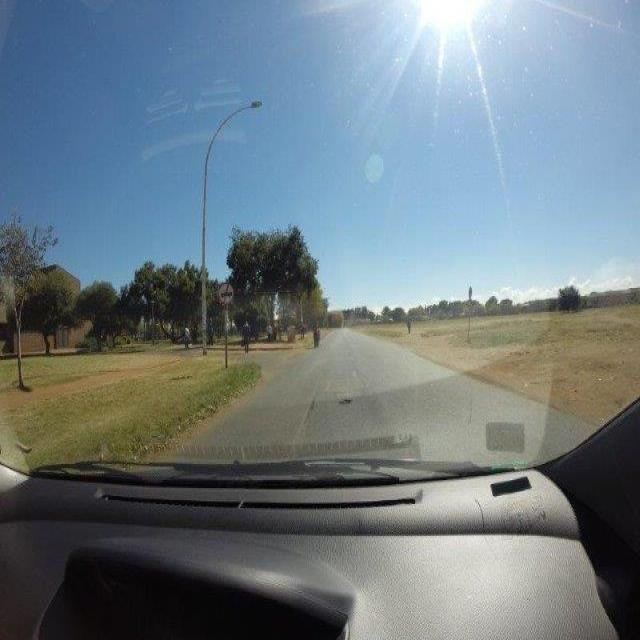lubang: (337, 394, 352, 406)
